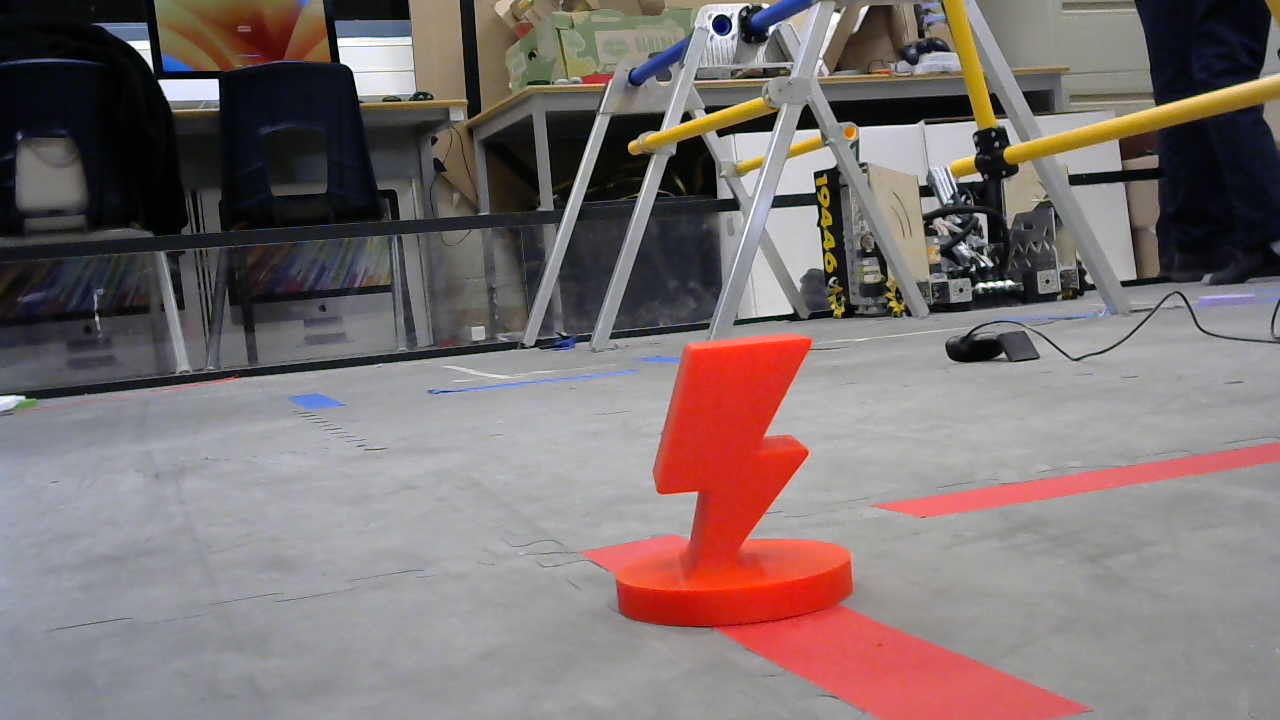redobject: (615, 333, 857, 630)
